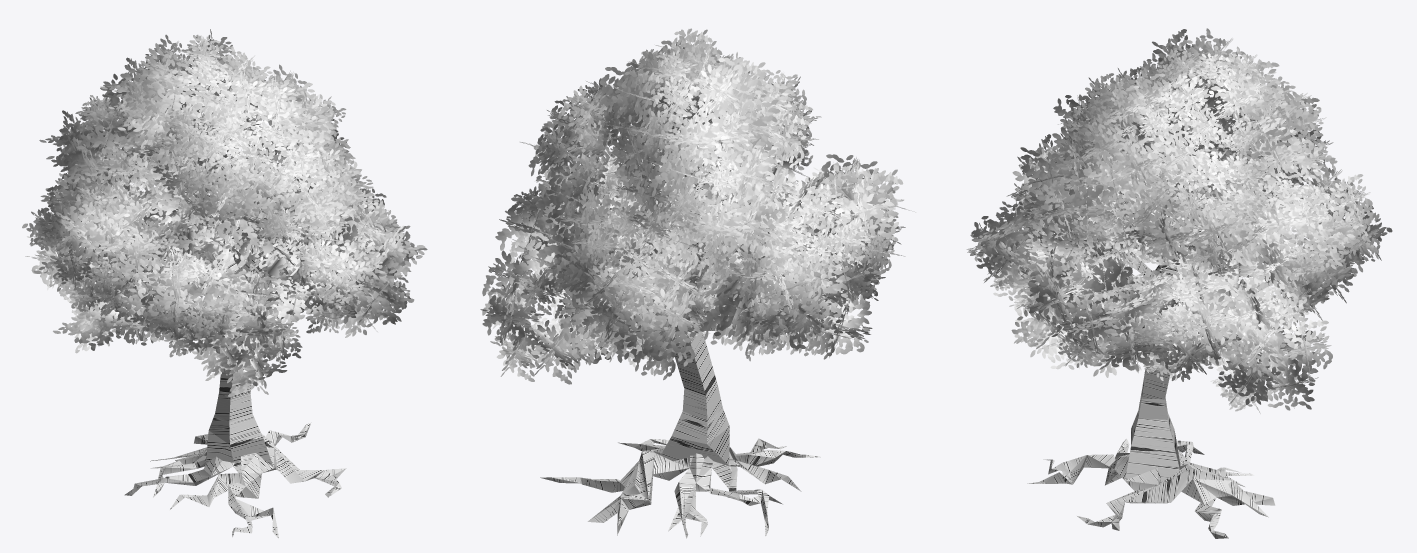
File: Oaktree01.fbx
The picture shows the model from 3 angles, left to right: view 1: azimuth 30°, elevation 25°; view 2: azimuth 150°, elevation 25°; view 3: azimuth 270°, elevation 25°; orthographic projection. The views are drawn at different scales.
Parts seen in each view (by area): view 1: OakTree01_LOD0; view 2: OakTree01_LOD0; view 3: OakTree01_LOD0.
Boxes of the visible parts, x1,y1,x2,y2 form: OakTree01_LOD0: [22, 29, 427, 538]; OakTree01_LOD0: [480, 28, 915, 538]; OakTree01_LOD0: [966, 28, 1392, 538].
Size of what is drawn, in the model's own units: 832 by 964 by 856.
